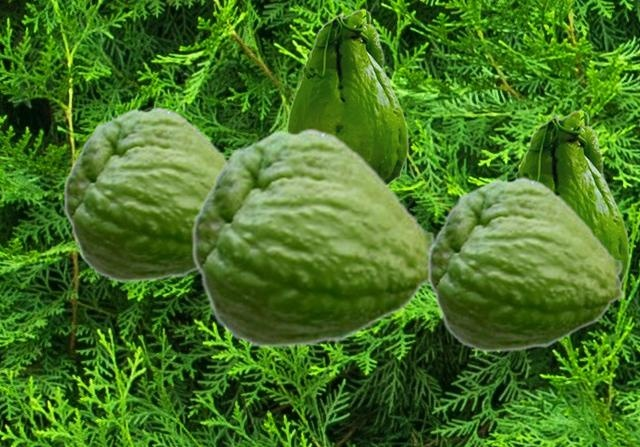sayote: (191, 127, 436, 348), (427, 176, 626, 352), (63, 106, 228, 282), (286, 8, 408, 184), (514, 109, 629, 282)
